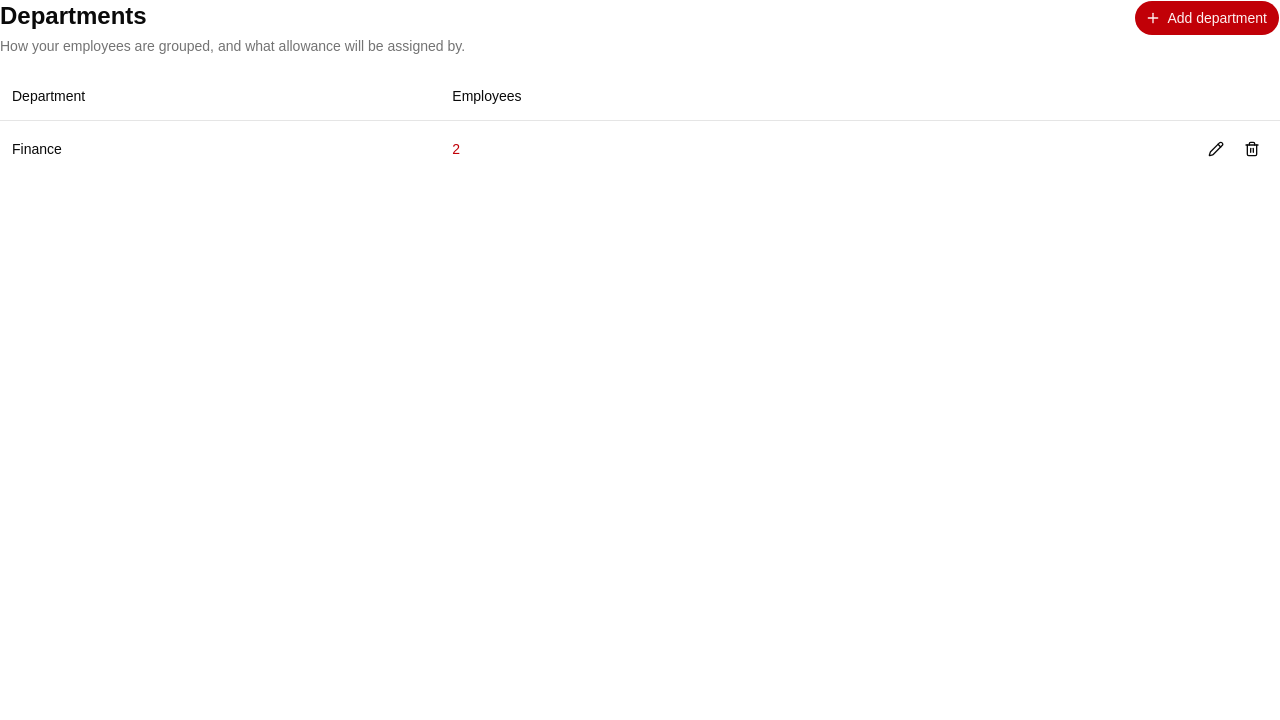
Scenario: DepartmentsPage › adds a department and refreshes the list
Expected: the text "Finance" is shown, [0,120,440,176]
Click the button "Add department": coordinates (1207, 18) [1134,0,1279,36]
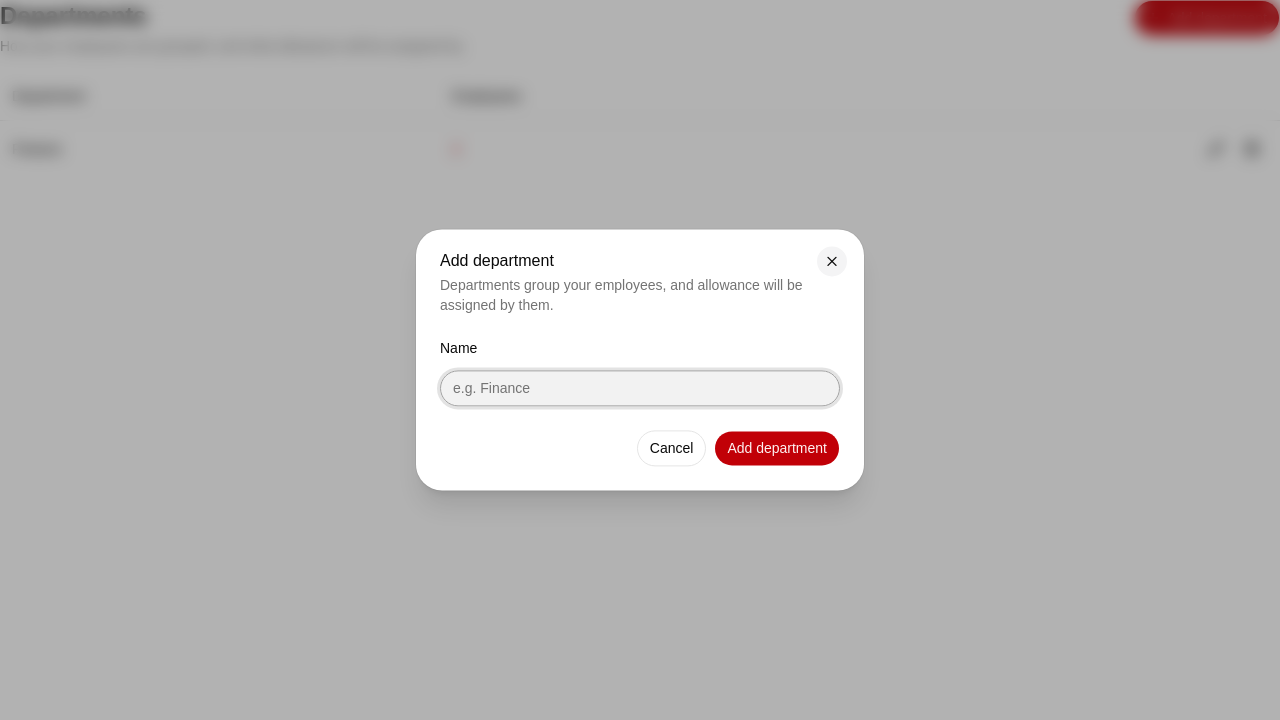
In the field labelled "Name": coordinates (640, 389) [440,371,840,407], type "  Operations "
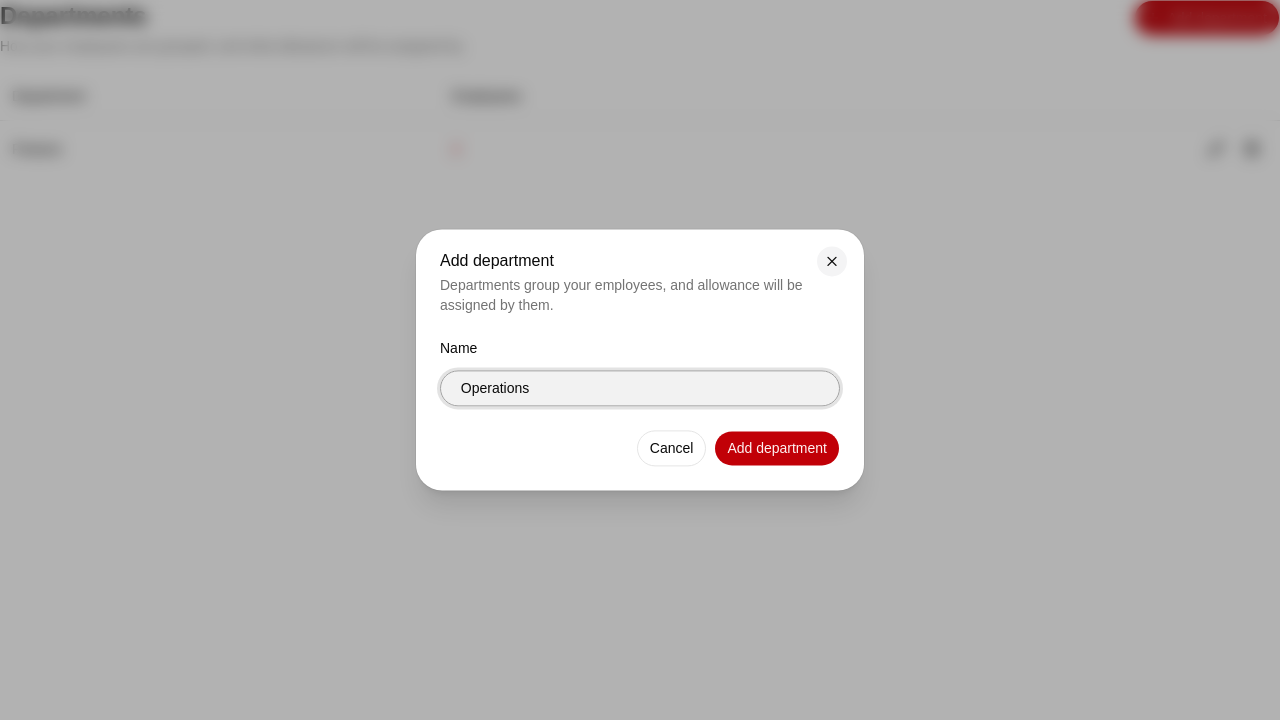
Click the button "Add department": coordinates (777, 449) [714,431,840,467]
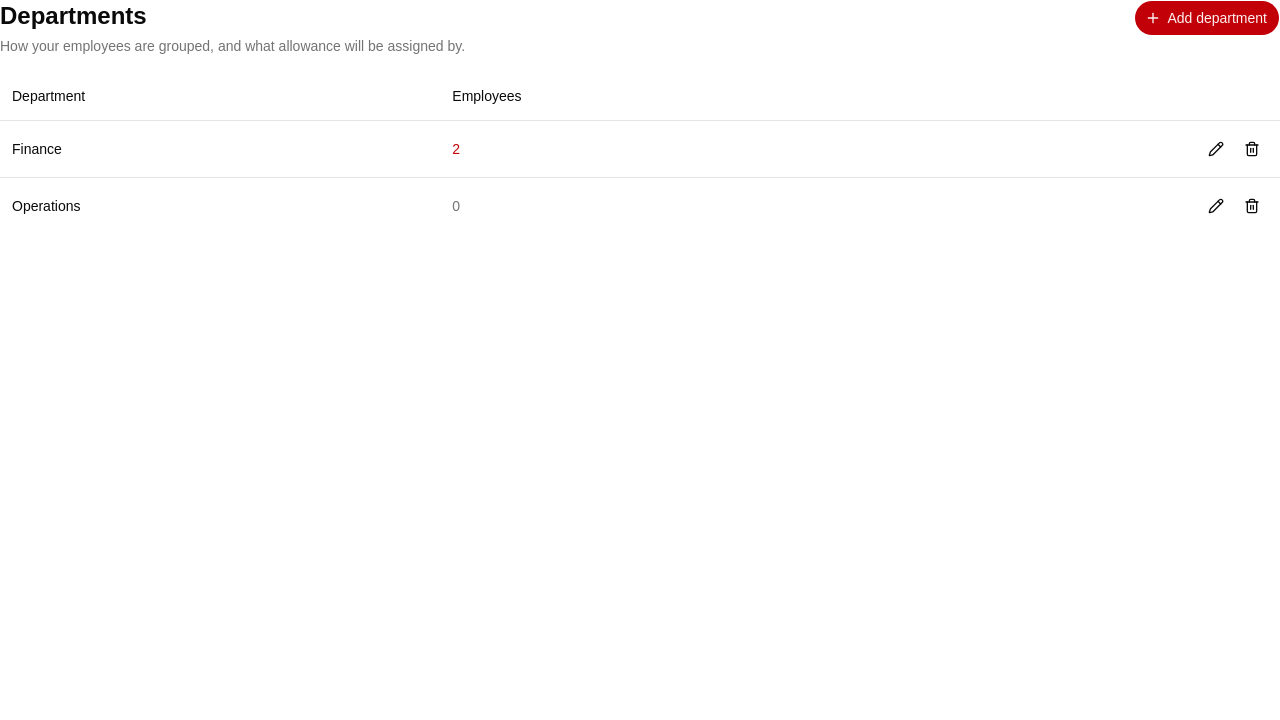
Expected: the text "Operations" is shown, [0,177,440,234]
